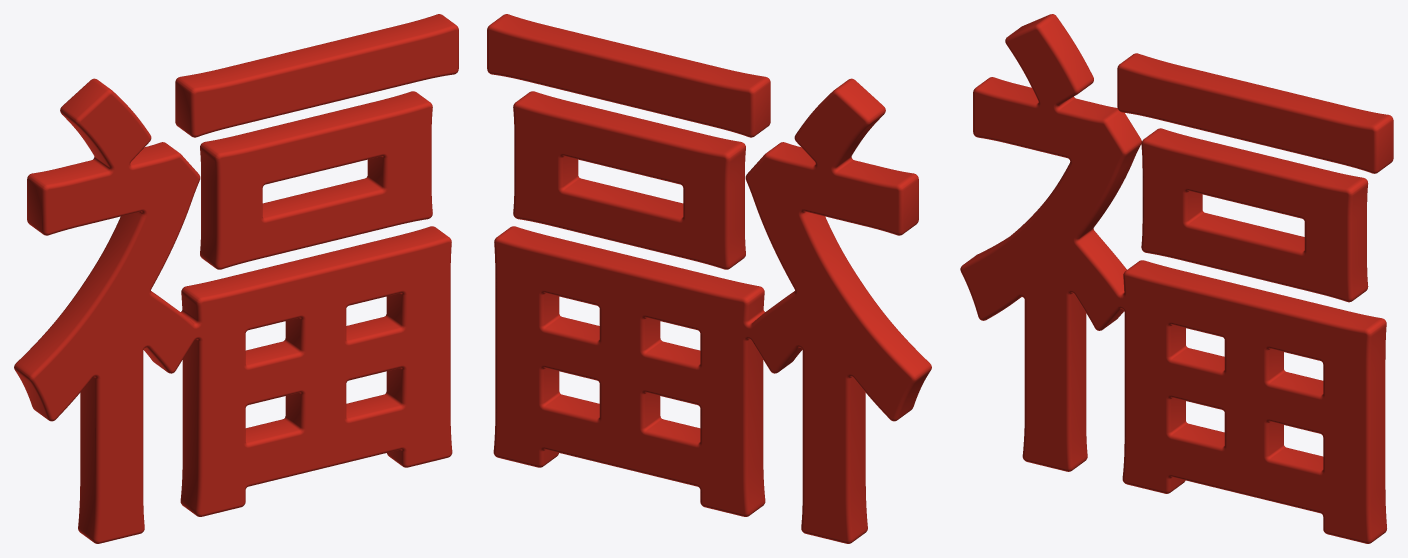
The model's file is fu-hiragino-ligera.glb.
3 renders of one model, left to right at view 1: azimuth 30°, elevation 25°; view 2: azimuth 150°, elevation 25°; view 3: azimuth 330°, elevation 25°, orthographic. The views are drawn at different scales.
Visible parts, largest first — view 1: geometry_0; view 2: geometry_0; view 3: geometry_0.
Boxes of the visible parts, box(x1,y1,x2,y2) form: geometry_0: box(14, 14, 458, 543); geometry_0: box(487, 14, 931, 543); geometry_0: box(960, 14, 1393, 543).
Bounding box in the file's own units: 0.9302 × 0.9348 × 0.07.
